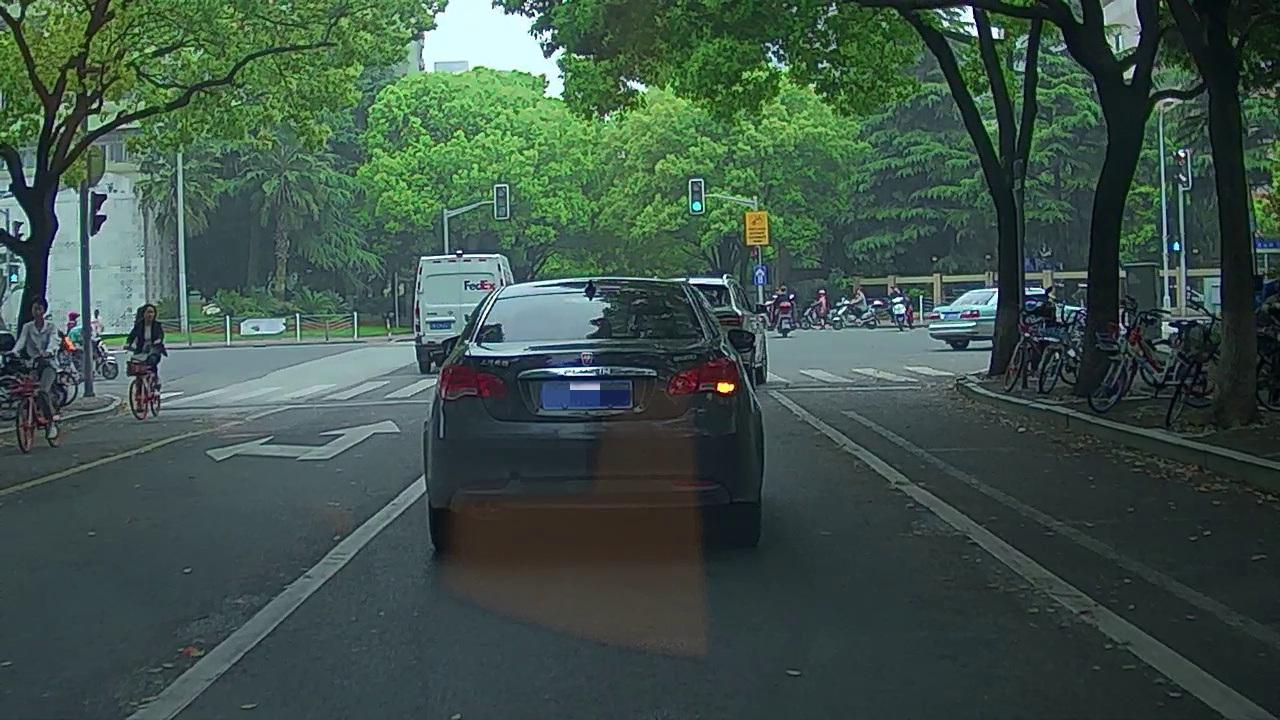traffic_light: (495, 186, 508, 218), (690, 181, 703, 212)
